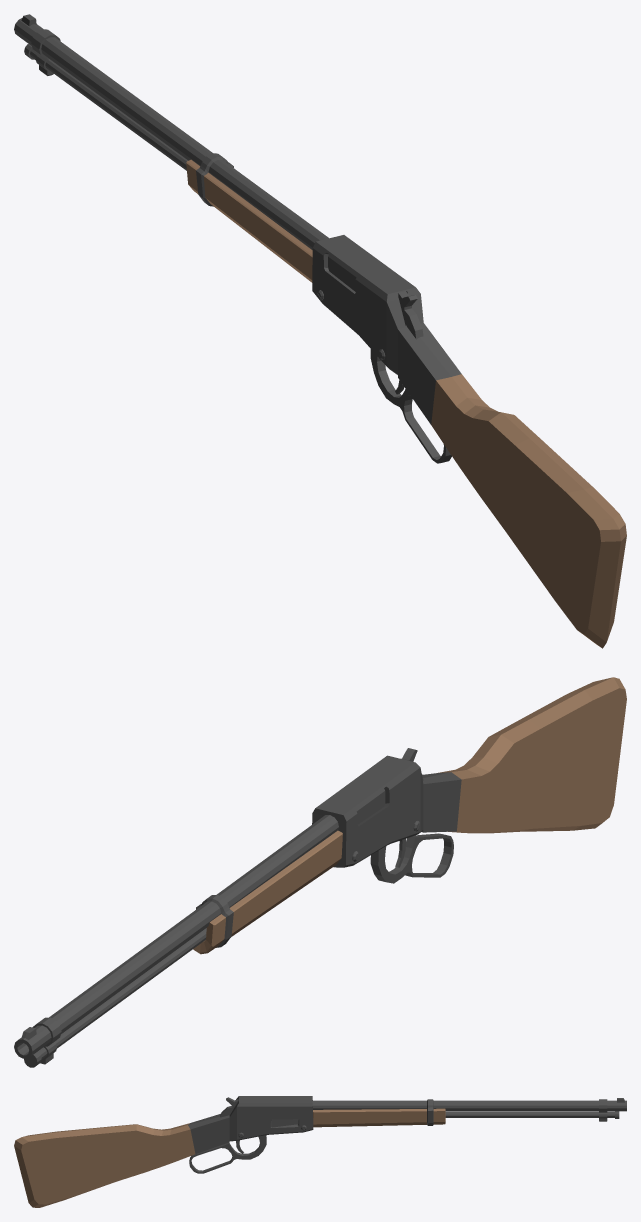
File: Repeater.glb
The picture shows the model from 3 angles, top to bottom: view 1: azimuth 30°, elevation 25°; view 2: azimuth 150°, elevation 25°; view 3: azimuth 270°, elevation 25°; orthographic projection. The views are drawn at different scales.
Parts seen in each view (by area): view 1: Repeater; view 2: Repeater; view 3: Repeater.
Boxes of the visible parts, x1,y1,x2,y2 form: Repeater: [14, 14, 626, 648]; Repeater: [14, 677, 626, 1067]; Repeater: [14, 1096, 626, 1207].
Bounding box in the file's own units: 4.09 × 21.71 × 110.
